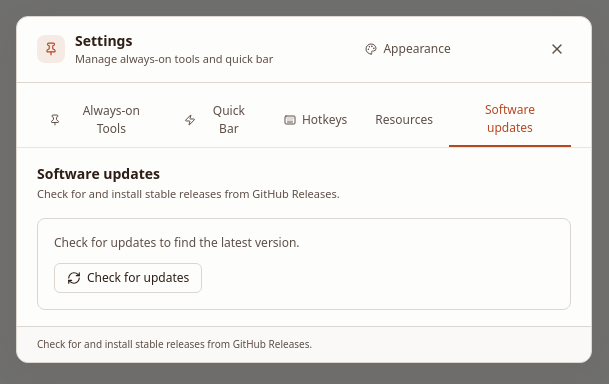
Scenario: software update status › allows an available update without release notes
The image size is (609, 384).
Click the button "Check for updates": coordinates (128, 278) x1=54 y1=263 x2=202 y2=293
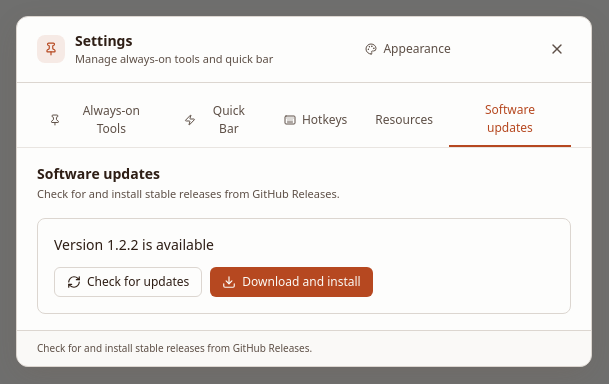
Now the button "Download and install" is enabled, box x1=210 y1=267 x2=373 y2=297
